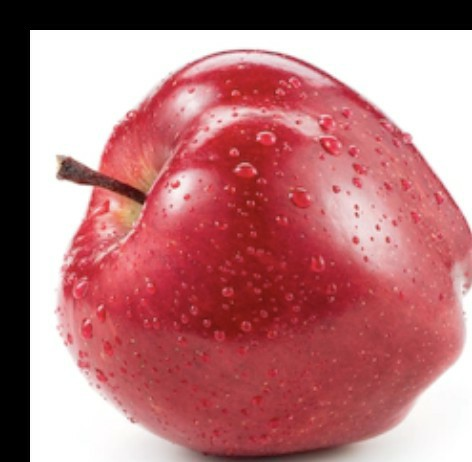fresh_apple: (58, 52, 472, 456)
